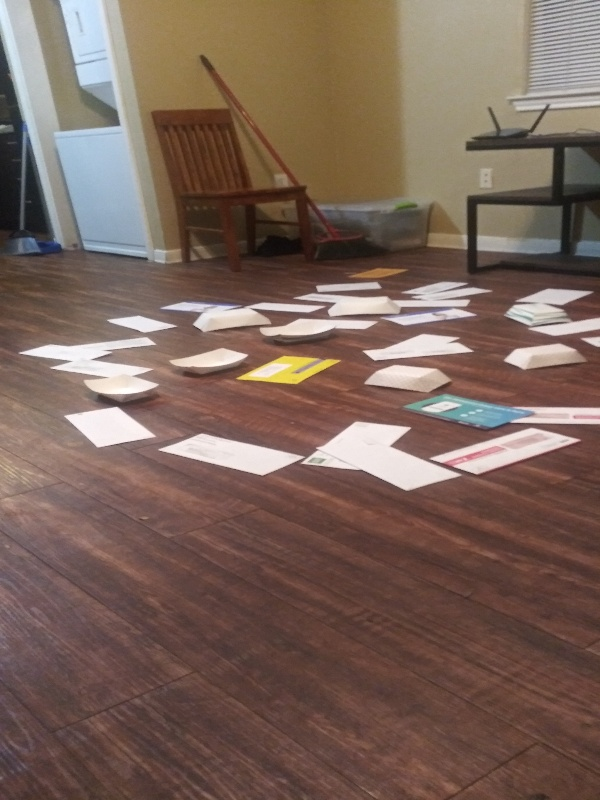plate: (500, 339, 591, 379), (361, 363, 458, 396), (167, 343, 252, 378), (79, 373, 164, 407), (186, 307, 278, 335), (256, 318, 343, 344), (498, 301, 577, 329), (318, 296, 405, 320)
